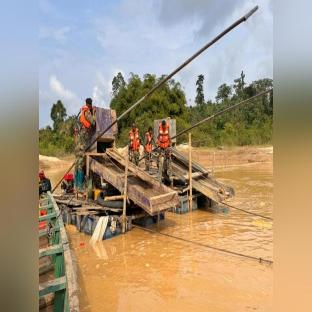Person: (75, 94, 93, 201), (157, 117, 174, 186), (127, 119, 140, 168), (144, 121, 154, 161)
ProcessingEquipment: (139, 73, 253, 225), (55, 88, 149, 266)
